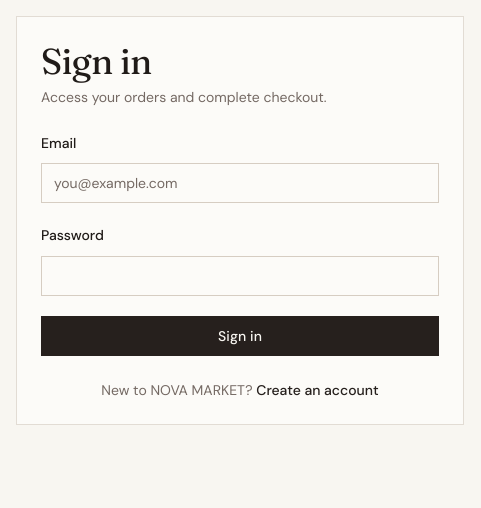
Test: LoginPage › shows a neutral error that does not reveal which field was wrong
Type "ada@example.com" into the field labelled "Email" at (240, 183), box [41, 163, 439, 203]
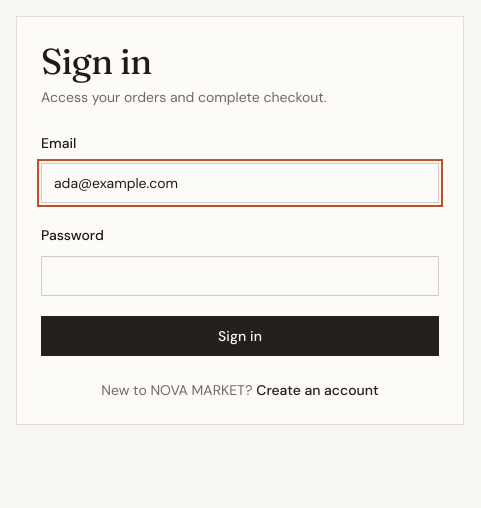
Type "WrongPass1" into the password field labelled "Password" at (240, 276), box [41, 256, 439, 296]
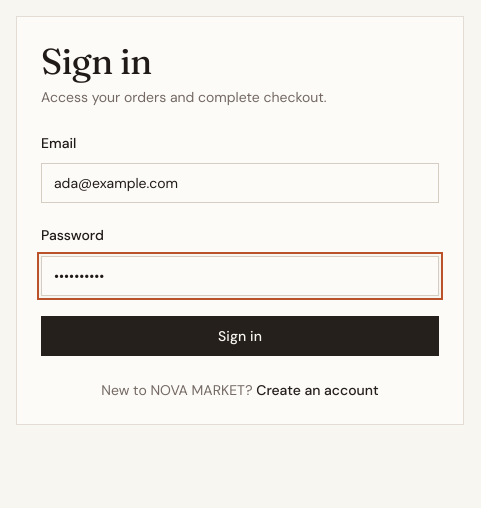
Click the button "Sign in" at (240, 336), box [41, 316, 439, 356]
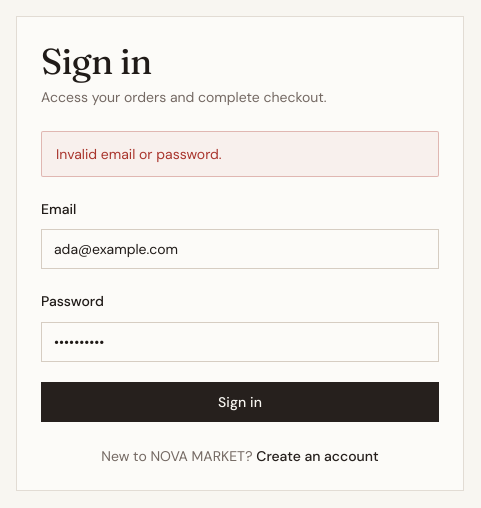
Result: the message reads "Invalid email or password." at [56, 145, 222, 163]
